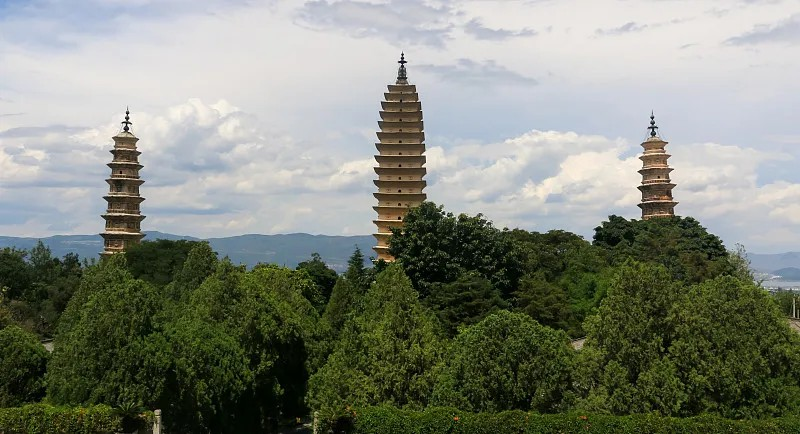ThreePagoda: (373, 52, 427, 263)
